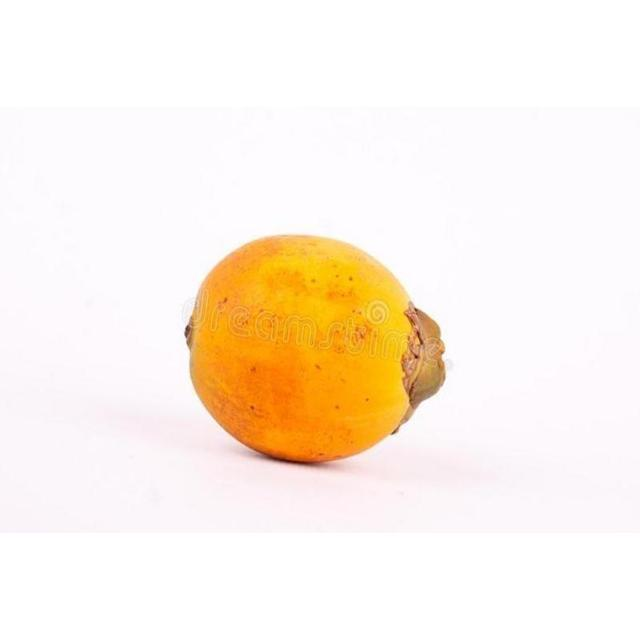good: (185, 234, 446, 465)
